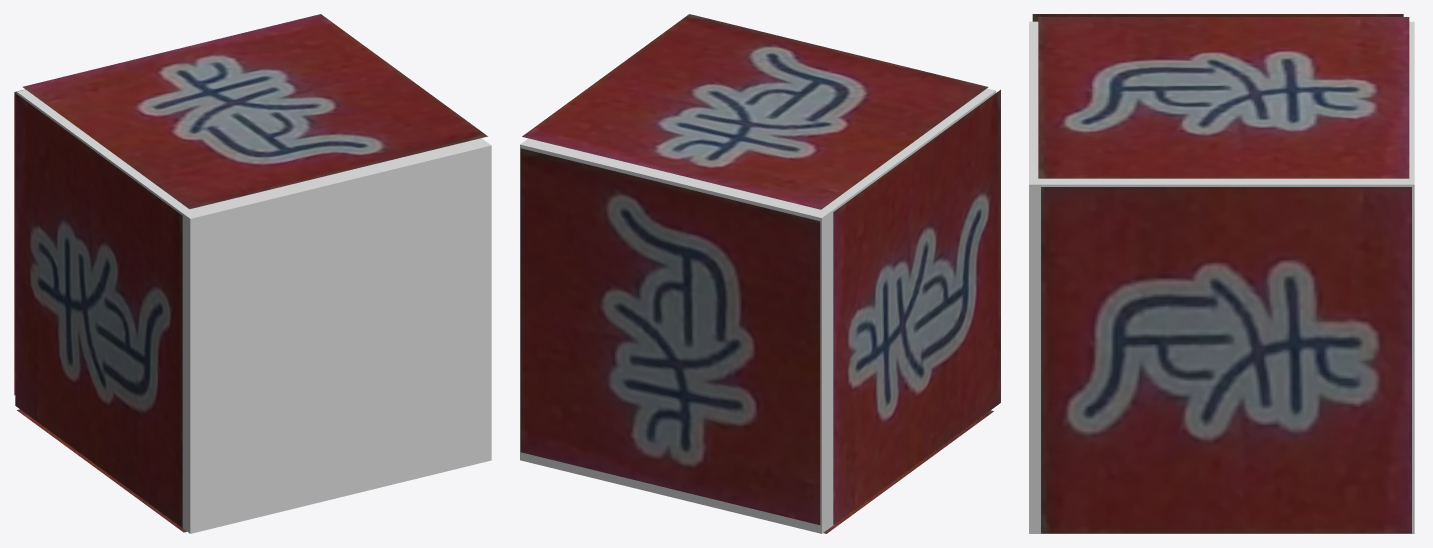
3 views of the same model, side by side, from view 1: azimuth 30°, elevation 25°; view 2: azimuth 150°, elevation 25°; view 3: azimuth 270°, elevation 25° (orthographic). The views are drawn at different scales.
Visible parts, largest first — view 1: Link28, R1.002, R1.004, R1.005, R1.001; view 2: R1.001, R1.002, R1.004, Link28, R1.005; view 3: R1.003, R1.004, Link28, R1.002.
Part boxes in pixels (left/top/right/bottom): Link28: left=16, top=89, right=491, bottom=533; R1.002: left=15, top=93, right=182, bottom=527; R1.004: left=22, top=14, right=487, bottom=209; R1.005: left=17, top=409, right=186, bottom=532; R1.001: left=14, top=89, right=25, bottom=395; R1.001: left=520, top=148, right=820, bottom=524; R1.002: left=833, top=89, right=1000, bottom=524; R1.004: left=522, top=14, right=988, bottom=209; Link28: left=520, top=88, right=995, bottom=533; R1.005: left=823, top=410, right=993, bottom=533; R1.003: left=1041, top=187, right=1411, bottom=533; R1.004: left=1038, top=17, right=1409, bottom=178; Link28: left=1029, top=21, right=1414, bottom=533; R1.002: left=1032, top=14, right=1403, bottom=21.
Bounding box in the file's own units: 0.3585 × 0.3539 × 0.3577.
Materials: 1 (1 with a texture image).
